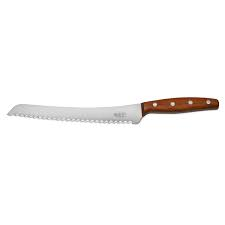breadknife: (7, 97, 222, 126)
